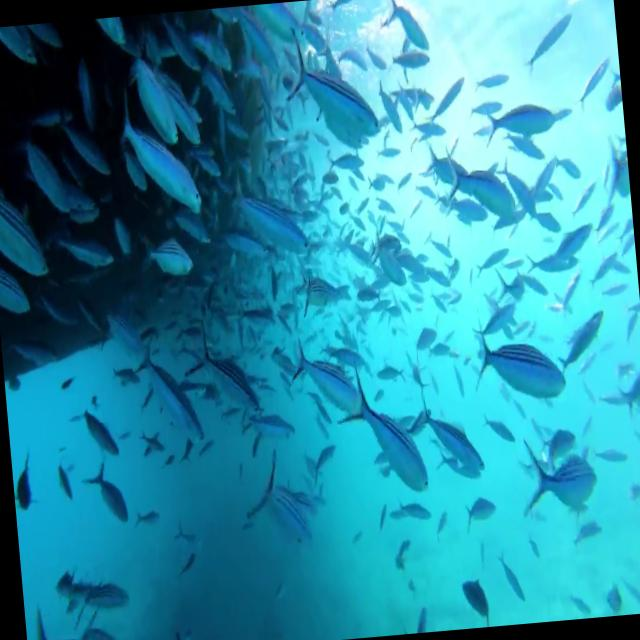fish: (329, 352, 436, 504), (278, 16, 382, 146), (109, 94, 206, 224), (463, 317, 582, 413), (400, 366, 488, 488), (126, 318, 203, 446), (188, 306, 260, 422), (230, 167, 314, 263), (523, 434, 598, 534), (434, 136, 512, 223), (476, 84, 560, 162), (0, 170, 54, 285), (123, 35, 177, 142), (18, 121, 70, 218), (68, 376, 124, 466), (130, 222, 201, 290), (64, 104, 118, 191), (84, 446, 133, 536), (55, 214, 113, 288), (208, 216, 278, 271), (520, 8, 582, 68), (371, 0, 435, 55), (488, 540, 528, 612), (68, 46, 103, 128), (10, 445, 42, 530), (520, 238, 582, 281), (458, 567, 494, 629), (0, 261, 33, 326), (72, 603, 127, 640), (0, 23, 40, 72), (380, 74, 407, 132), (466, 494, 502, 528)
